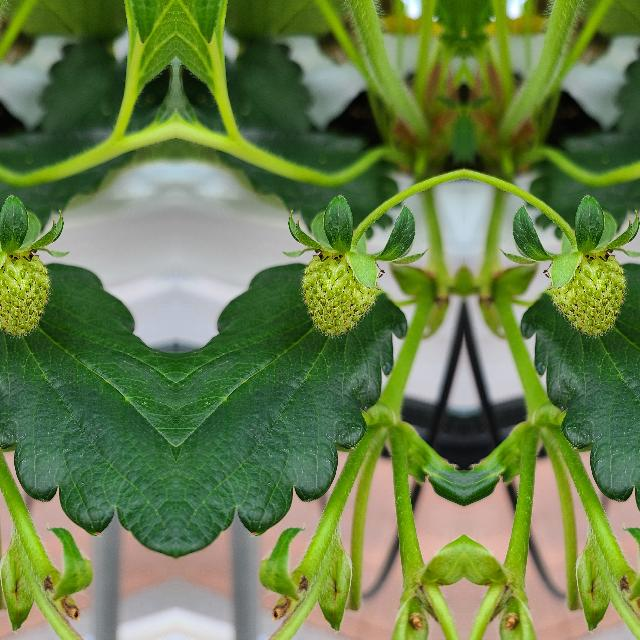Health_25: (303, 254, 375, 334), (551, 254, 623, 334), (0, 254, 47, 333)
